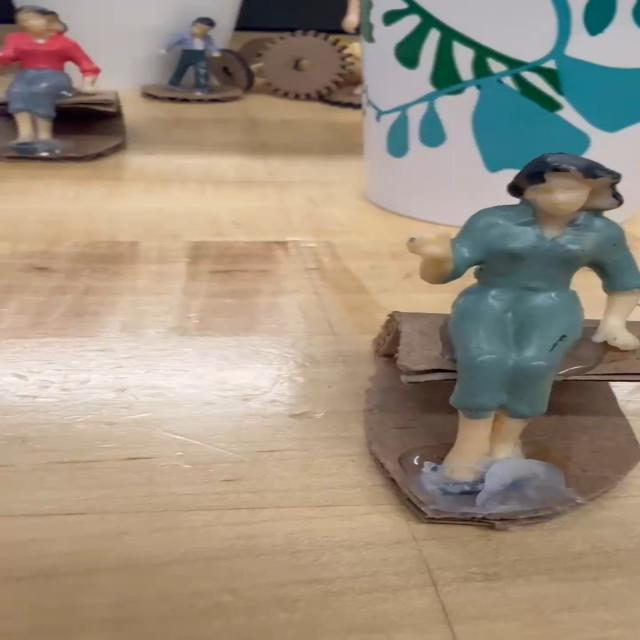Authorized: (400, 151, 640, 511)
